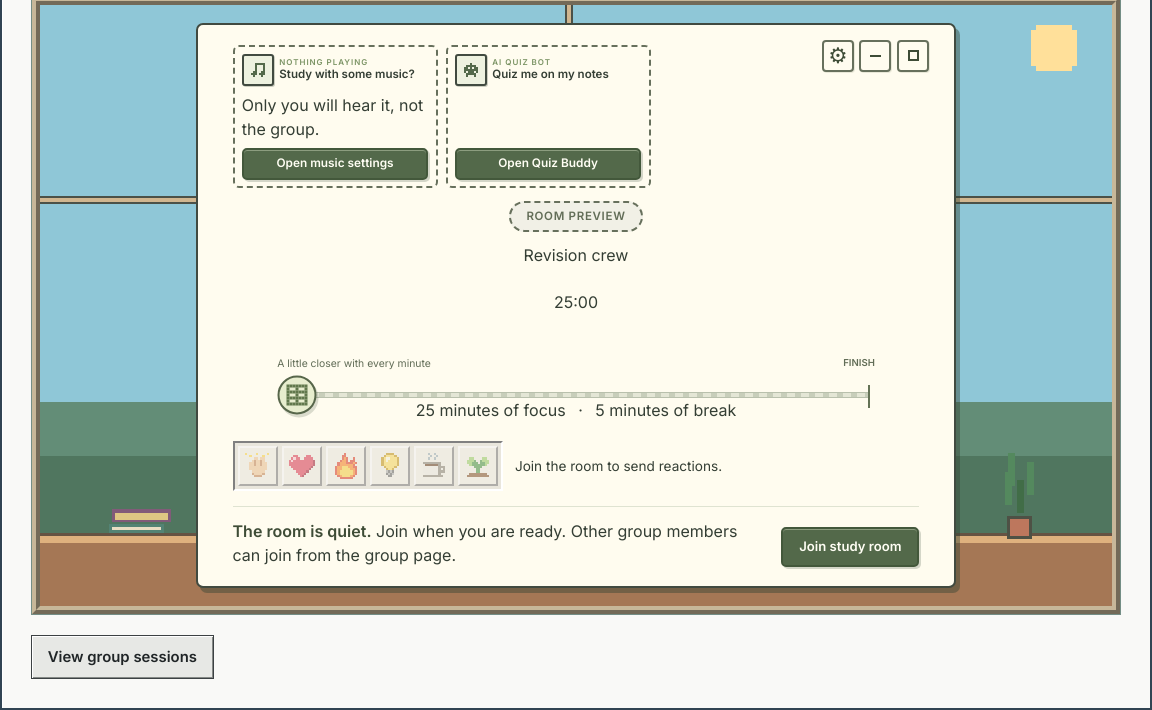
private room screen › warns the last person that leaving ends the session
(page scrolled)
Click the button "Join study room".
click(850, 547)  # box [781, 527, 920, 567]
(page scrolled)
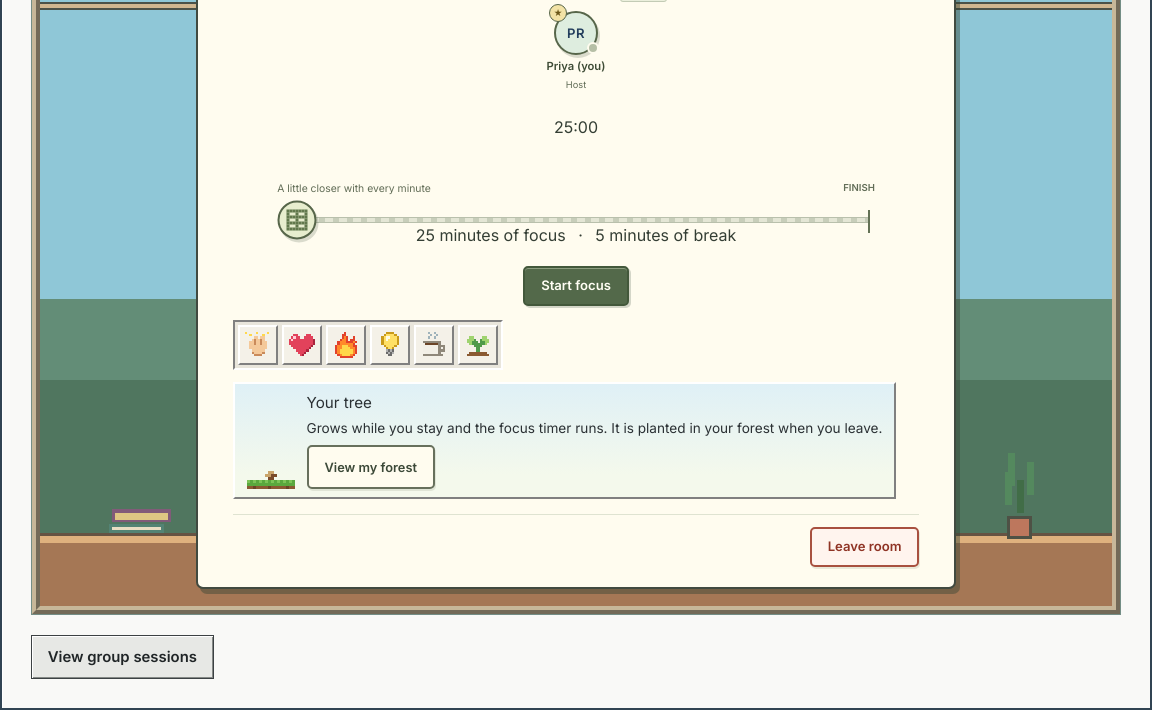
Click the button "Leave room".
click(865, 547)  # box [810, 527, 920, 567]
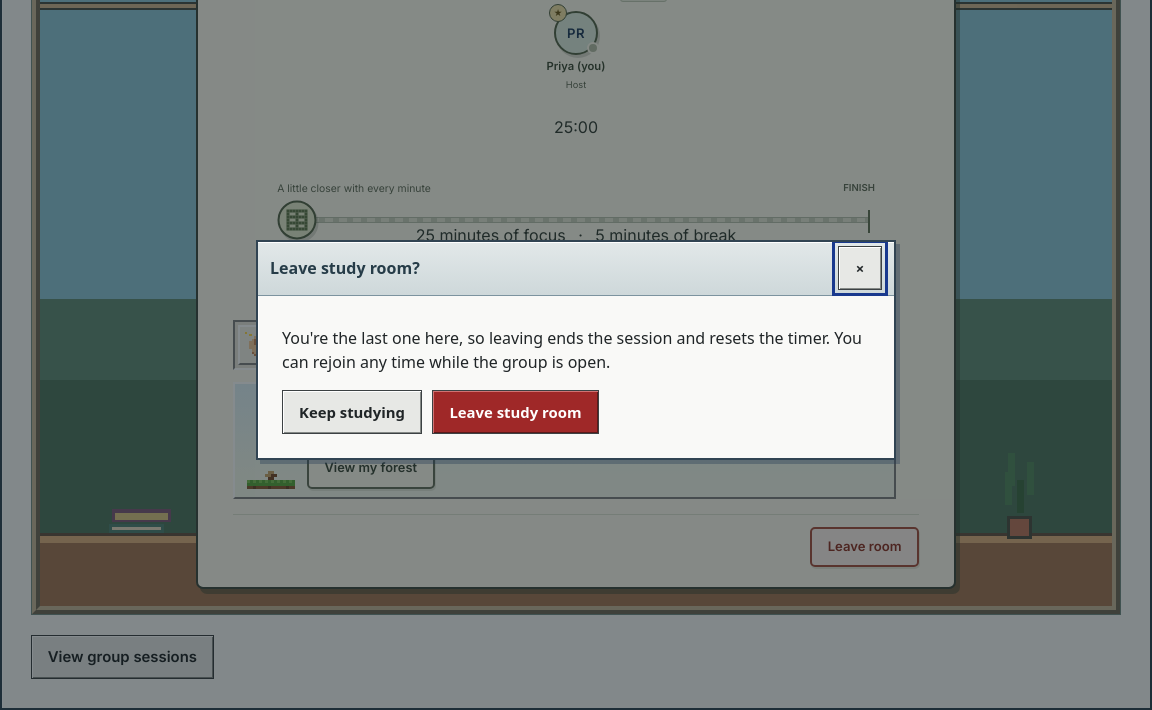
Expected: the text "You're the last one here, so leaving ends the session" is shown, [282, 328, 862, 374]
